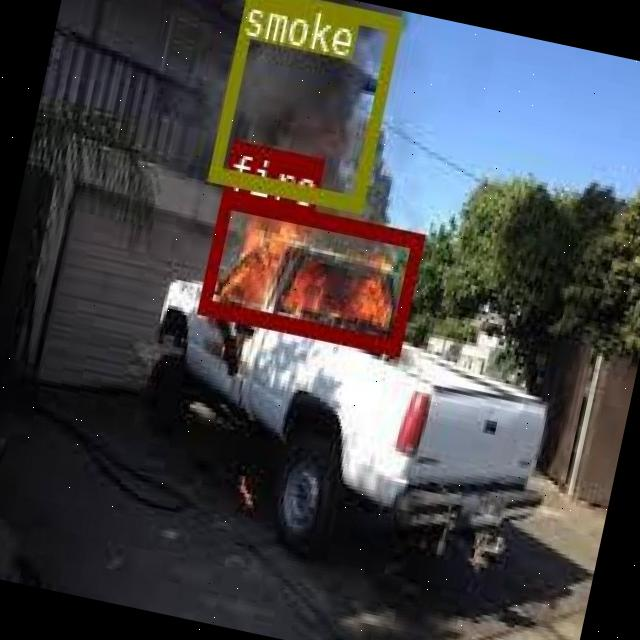fire: (196, 190, 422, 352)
smoke: (207, 0, 400, 209)
